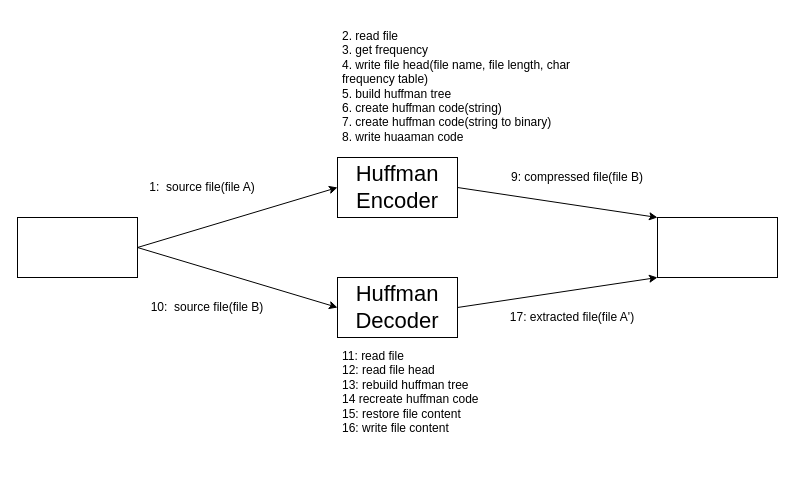
Some shapes in this 795 by 494 pixel diagram are drawn without their labels. Each missing label, with the centre of its shape:
"Input" belongs at (x=77, y=247).
"Output" belongs at (x=717, y=247).
